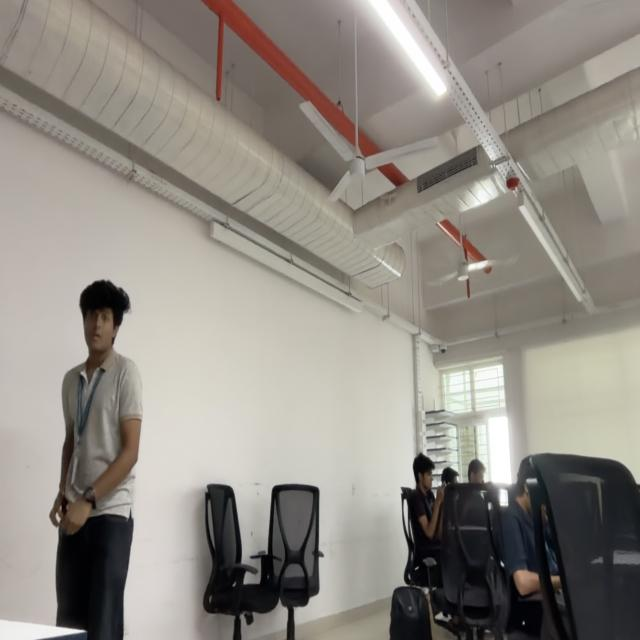kshitij: (80, 278, 130, 356)
